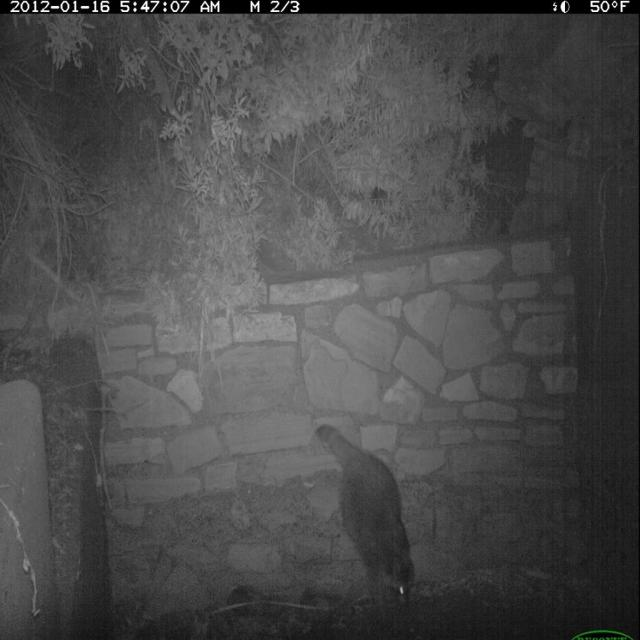raccoon: (311, 417, 422, 637)
